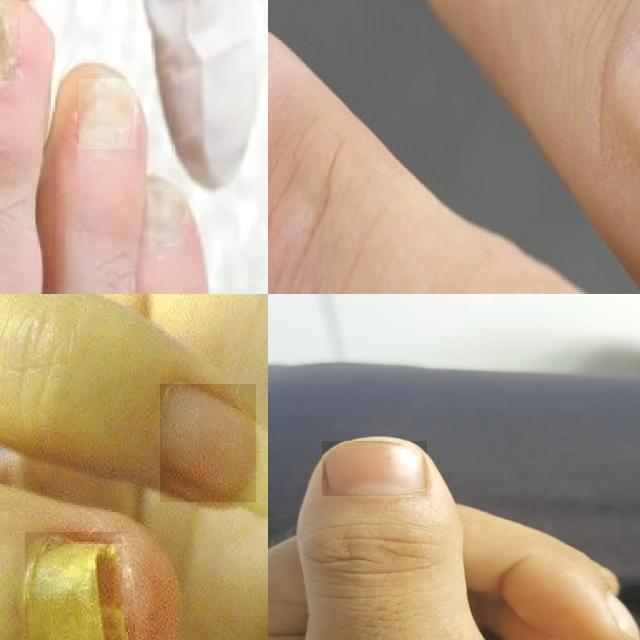diabetes: (25, 533, 105, 640), (80, 79, 137, 149)
sehat: (161, 385, 256, 502), (323, 441, 427, 496)
